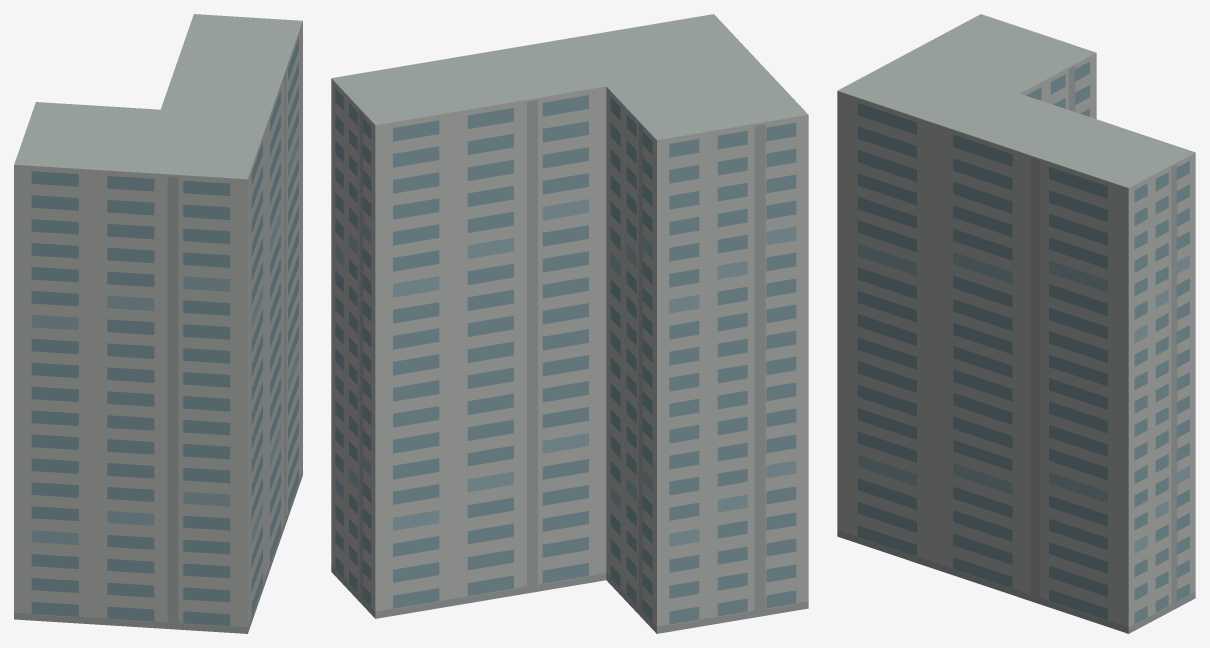
File: residential-16643fcd-b019-4d96-af62-cc8e6e16c691.glb
3 views of the same model, side by side, from view 1: azimuth 30°, elevation 25°; view 2: azimuth 150°, elevation 25°; view 3: azimuth 270°, elevation 25° (orthographic). The views are drawn at different scales.
Visible parts, largest first — view 1: residential-16643fcd-b019-4d96-af62-cc8e6e16c691.tmp; view 2: residential-16643fcd-b019-4d96-af62-cc8e6e16c691.tmp; view 3: residential-16643fcd-b019-4d96-af62-cc8e6e16c691.tmp.
Boxes of the visible parts, left/top/right/bottom form: residential-16643fcd-b019-4d96-af62-cc8e6e16c691.tmp: left=14, top=14, right=302, bottom=633; residential-16643fcd-b019-4d96-af62-cc8e6e16c691.tmp: left=331, top=14, right=808, bottom=633; residential-16643fcd-b019-4d96-af62-cc8e6e16c691.tmp: left=837, top=14, right=1195, bottom=633.
Bounding box in the file's own units: 46.94 × 56 × 40.83.
